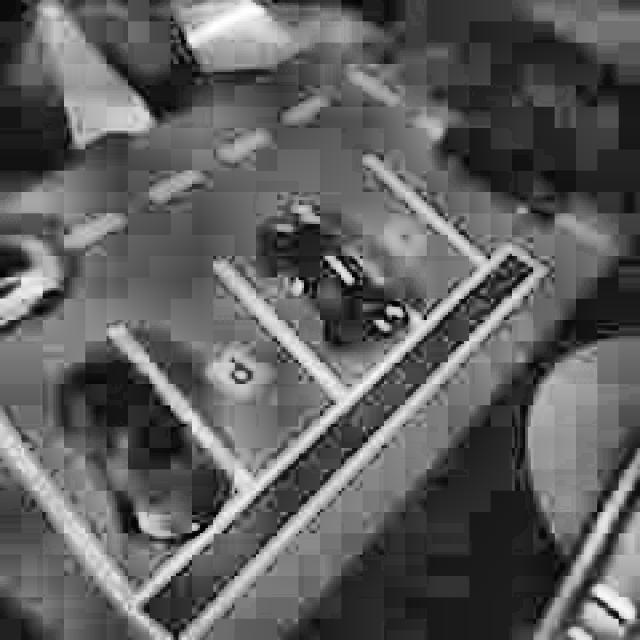car: (54, 354, 235, 556), (242, 190, 421, 363), (0, 215, 76, 362)
